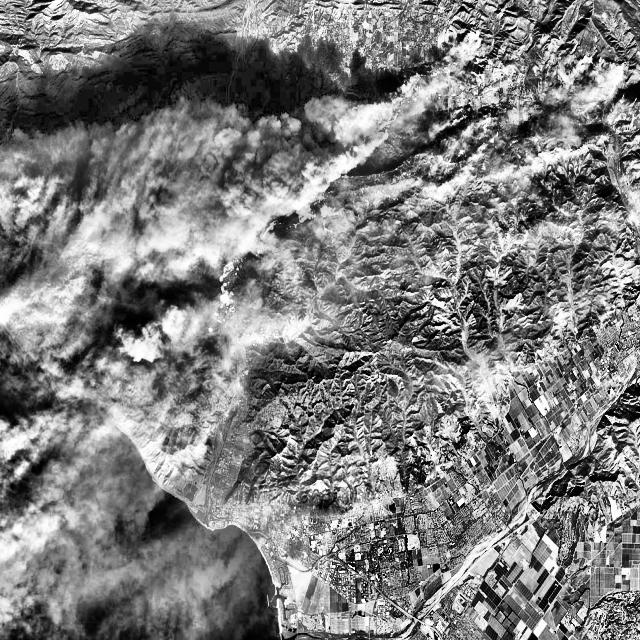fire: (280, 58, 430, 179), (224, 196, 286, 305), (584, 38, 638, 122), (294, 124, 323, 269)
